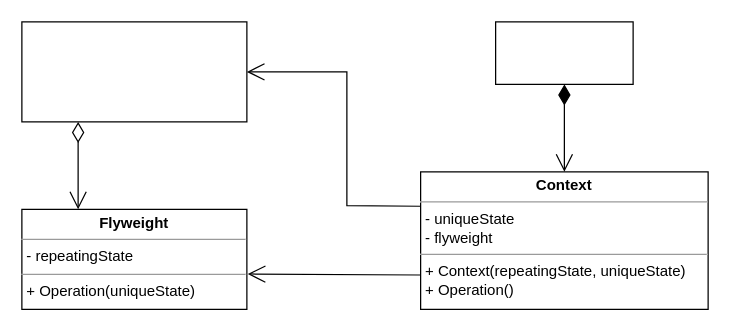
The diagram is 730 pixels wide and 331 high, and some of its shapes have lost their labels. Each missing label, with the box of its shape:
Client: (494, 21, 633, 84)
FlyweightFactory - cache: Flyweight[] + GetFlyweight(repeatingState): (21, 21, 247, 122)
